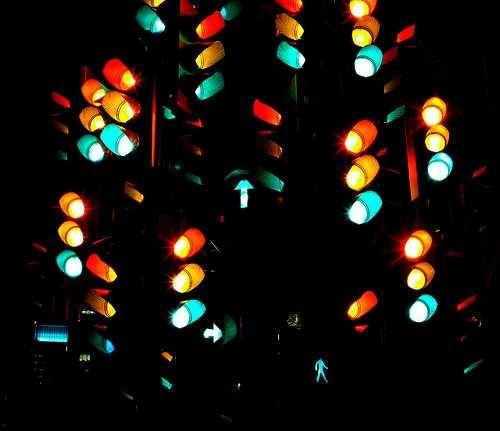green: (175, 71, 226, 107), (220, 168, 258, 212), (345, 190, 387, 229), (165, 297, 208, 335), (103, 122, 141, 161), (84, 326, 123, 360), (426, 154, 460, 189), (404, 293, 439, 325), (351, 46, 381, 83), (55, 248, 87, 282), (76, 133, 108, 166), (136, 6, 169, 36), (278, 41, 306, 73), (310, 353, 333, 386), (201, 324, 229, 350)
red: (340, 115, 384, 156), (100, 53, 141, 94), (250, 94, 294, 131), (392, 228, 439, 262), (180, 7, 226, 41), (82, 249, 124, 285), (165, 228, 209, 261), (415, 92, 453, 127), (346, 284, 377, 323), (59, 188, 91, 221), (82, 76, 106, 108), (346, 0, 382, 21), (275, 0, 306, 16)
